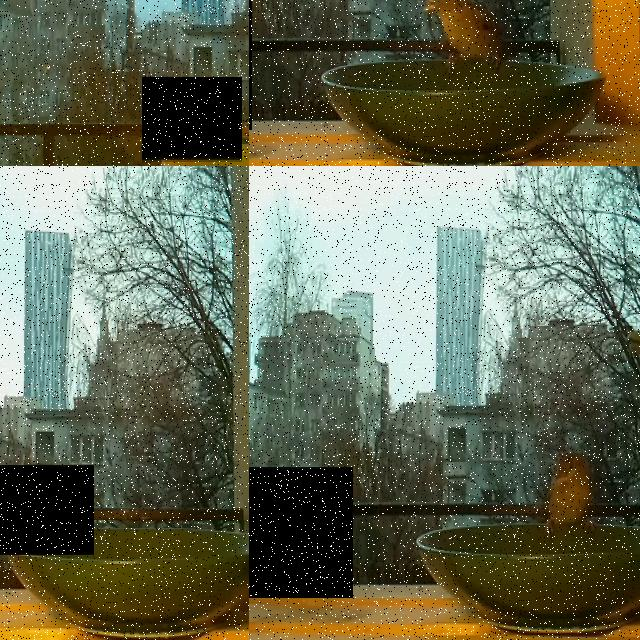Bogatka: (249, 467, 353, 597)
Modraszka: (142, 77, 242, 162)
Wrobel: (0, 465, 94, 554), (423, 0, 513, 71), (539, 448, 603, 536)
